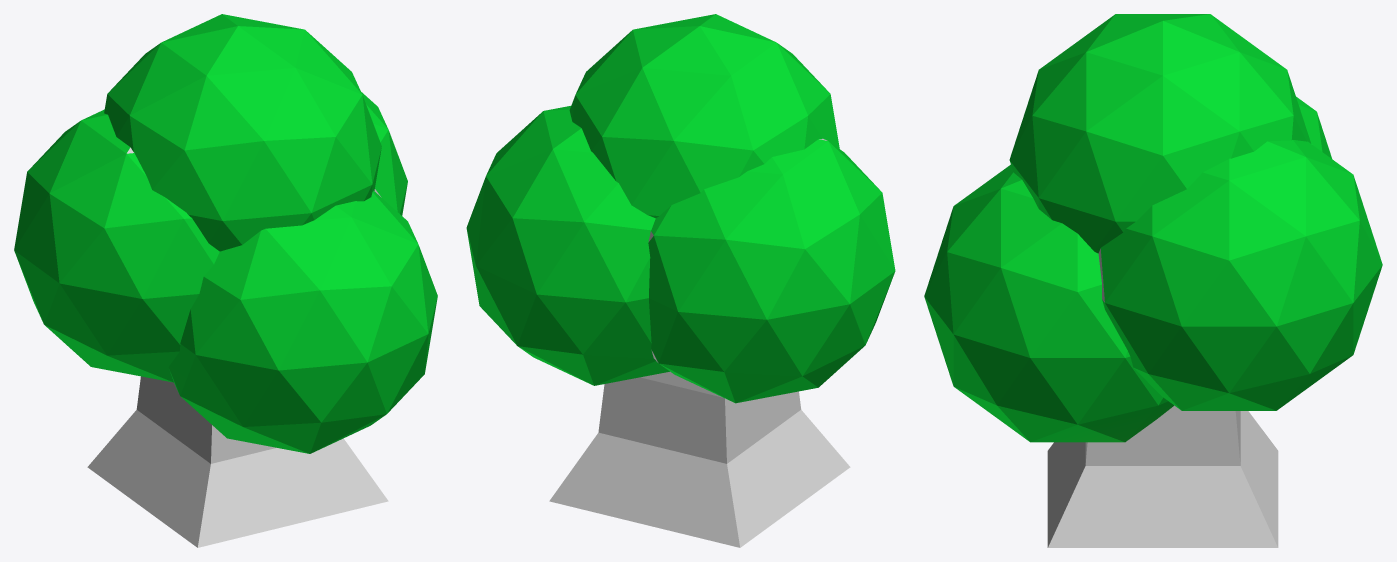
Rendered from Small Tree.fbx.
The picture shows the model from 3 angles, left to right: view 1: azimuth 30°, elevation 25°; view 2: azimuth 150°, elevation 25°; view 3: azimuth 270°, elevation 25°; orthographic projection. The views are drawn at different scales.
Parts seen in each view (by area): view 1: Cube; view 2: Cube; view 3: Cube.
Part boxes in pixels (box(x1,y1,x2,y2)): Cube: box(14, 14, 437, 547); Cube: box(466, 14, 895, 547); Cube: box(924, 14, 1382, 547).
Size of the model in its own units: 1.93 by 2.31 by 2.01.
